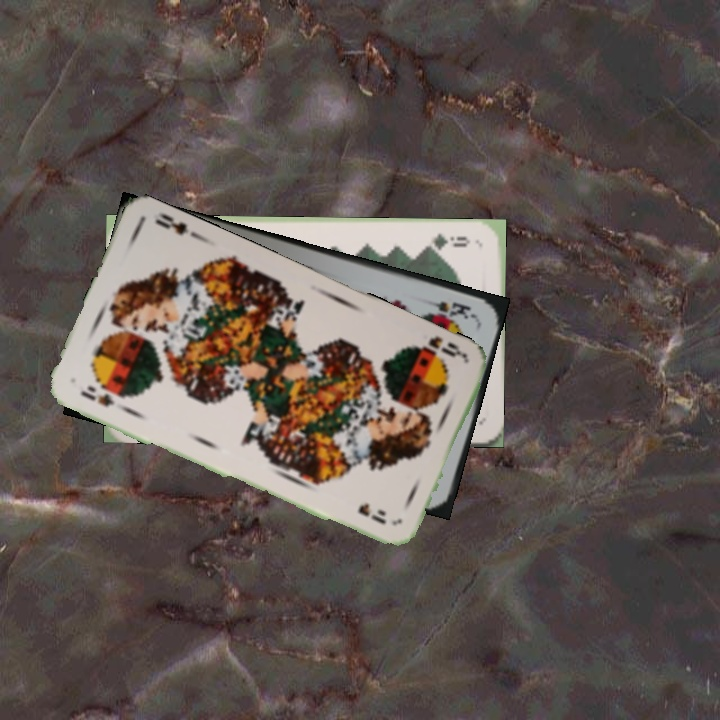G9: (420, 229, 473, 252)
SK: (420, 294, 478, 322)
SO: (408, 332, 469, 366), (77, 381, 118, 409)
